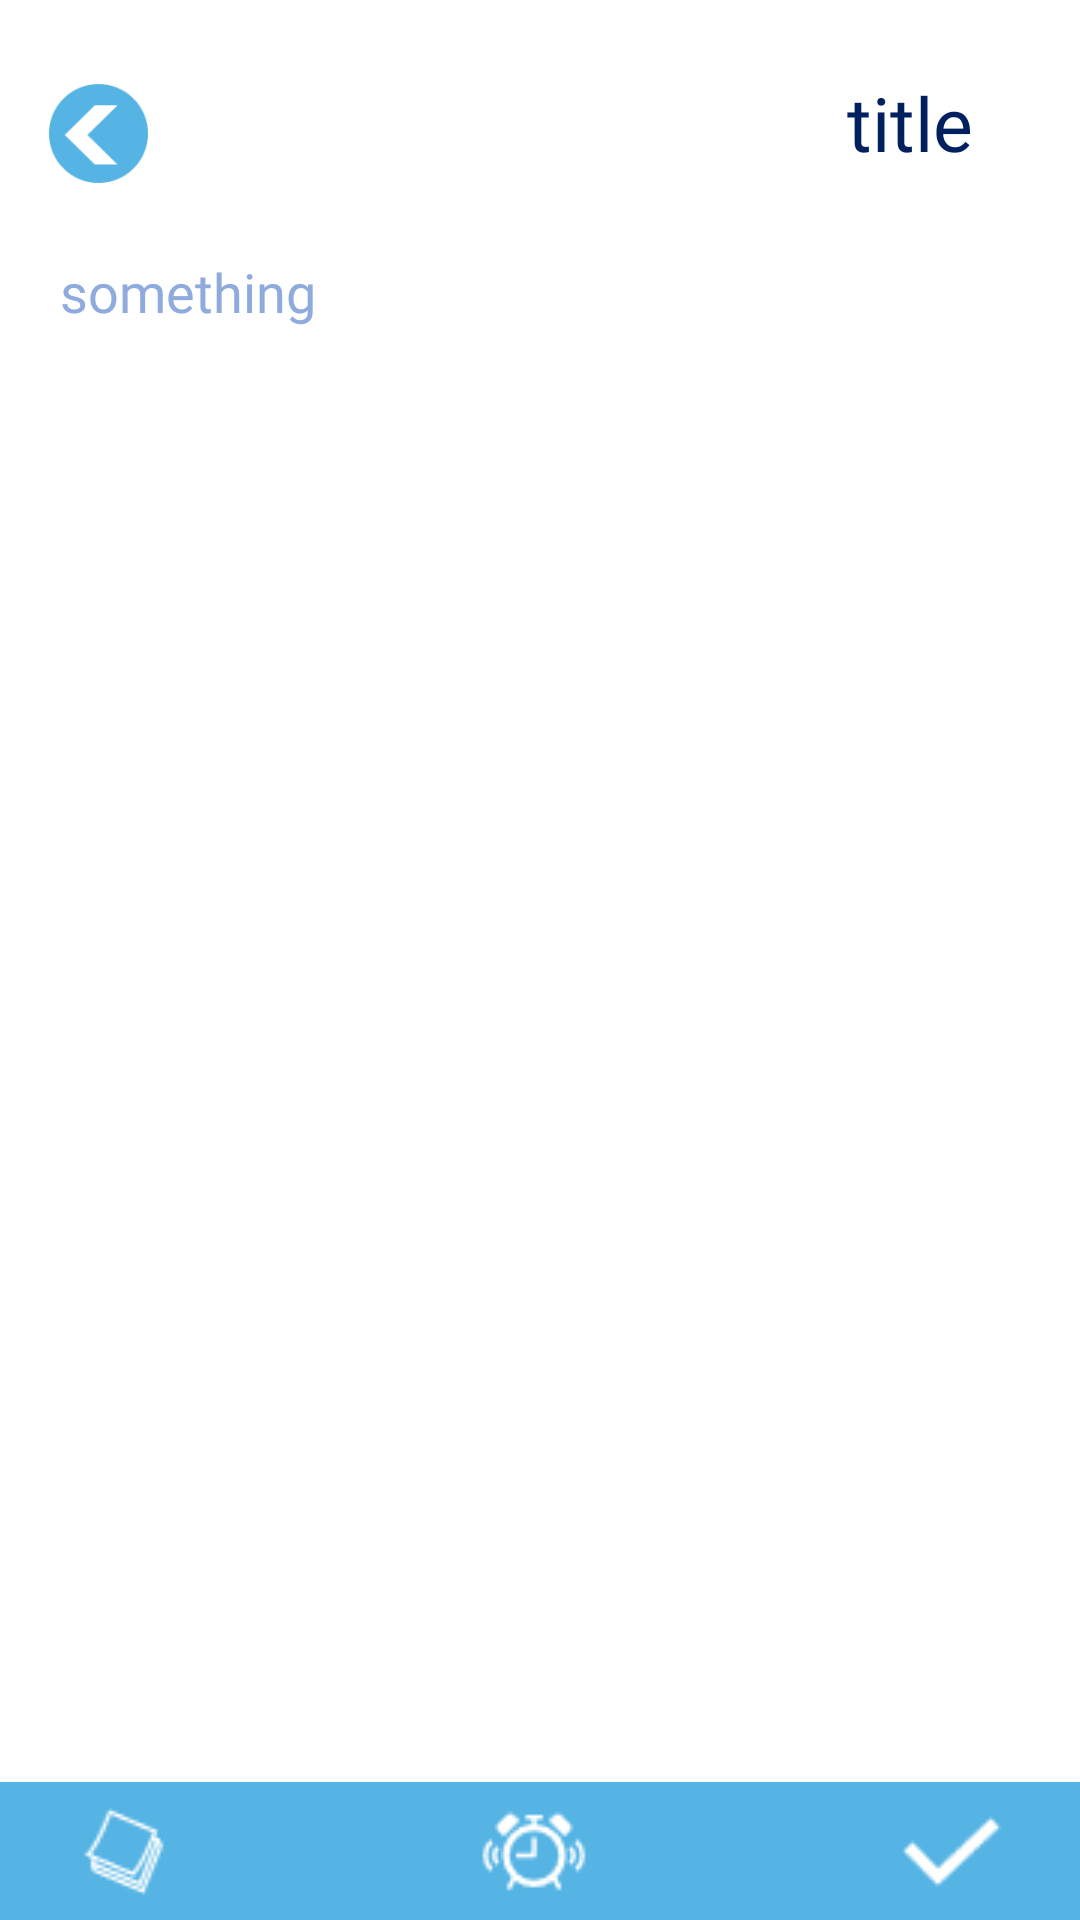

Where icons sit on this 1080 × 1920 app screen, as (x1, y1, x2, y2):
alarms: (482, 1812, 586, 1891)
back: (49, 84, 148, 183)
